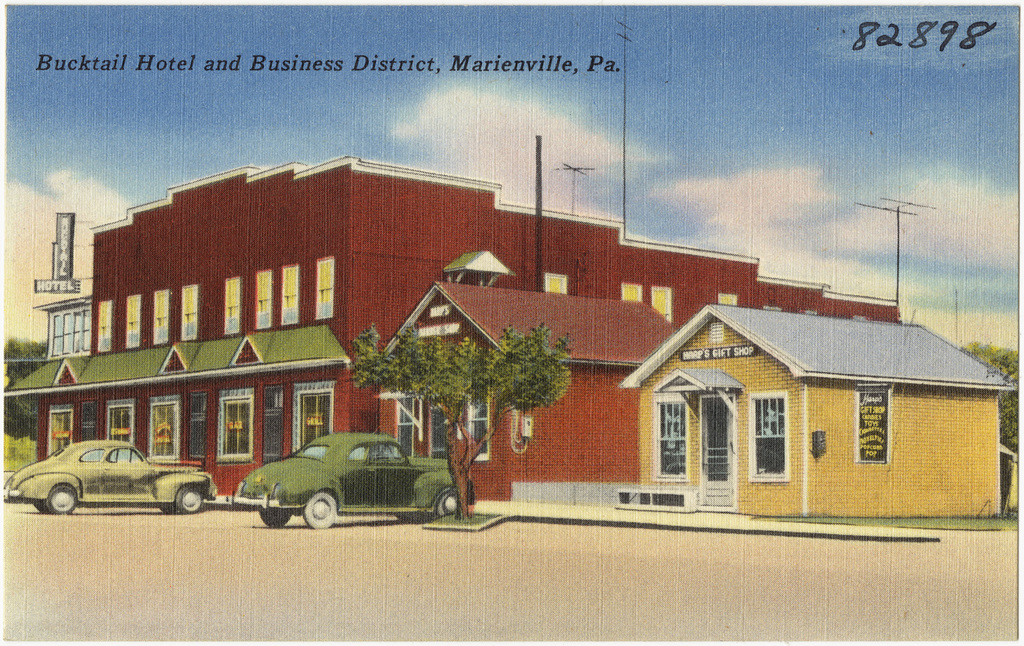mobil: (242, 421, 463, 540)
